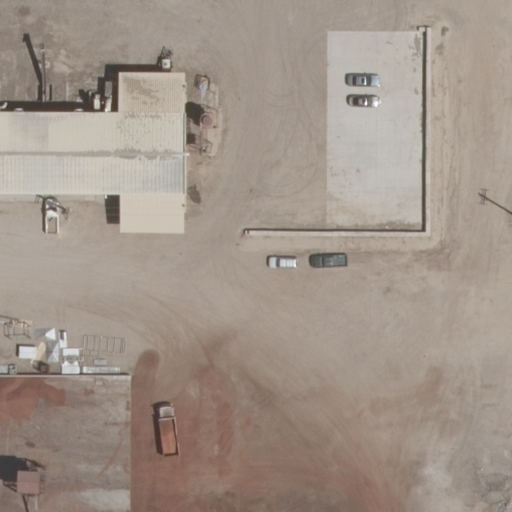DT: (506, 203, 512, 220)
